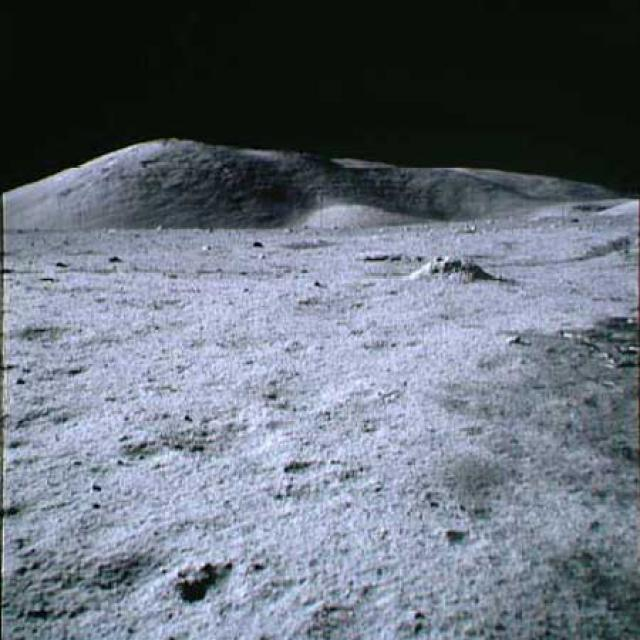crater: (11, 313, 96, 349), (356, 247, 420, 271), (281, 229, 340, 255)
rock: (400, 251, 503, 289)
